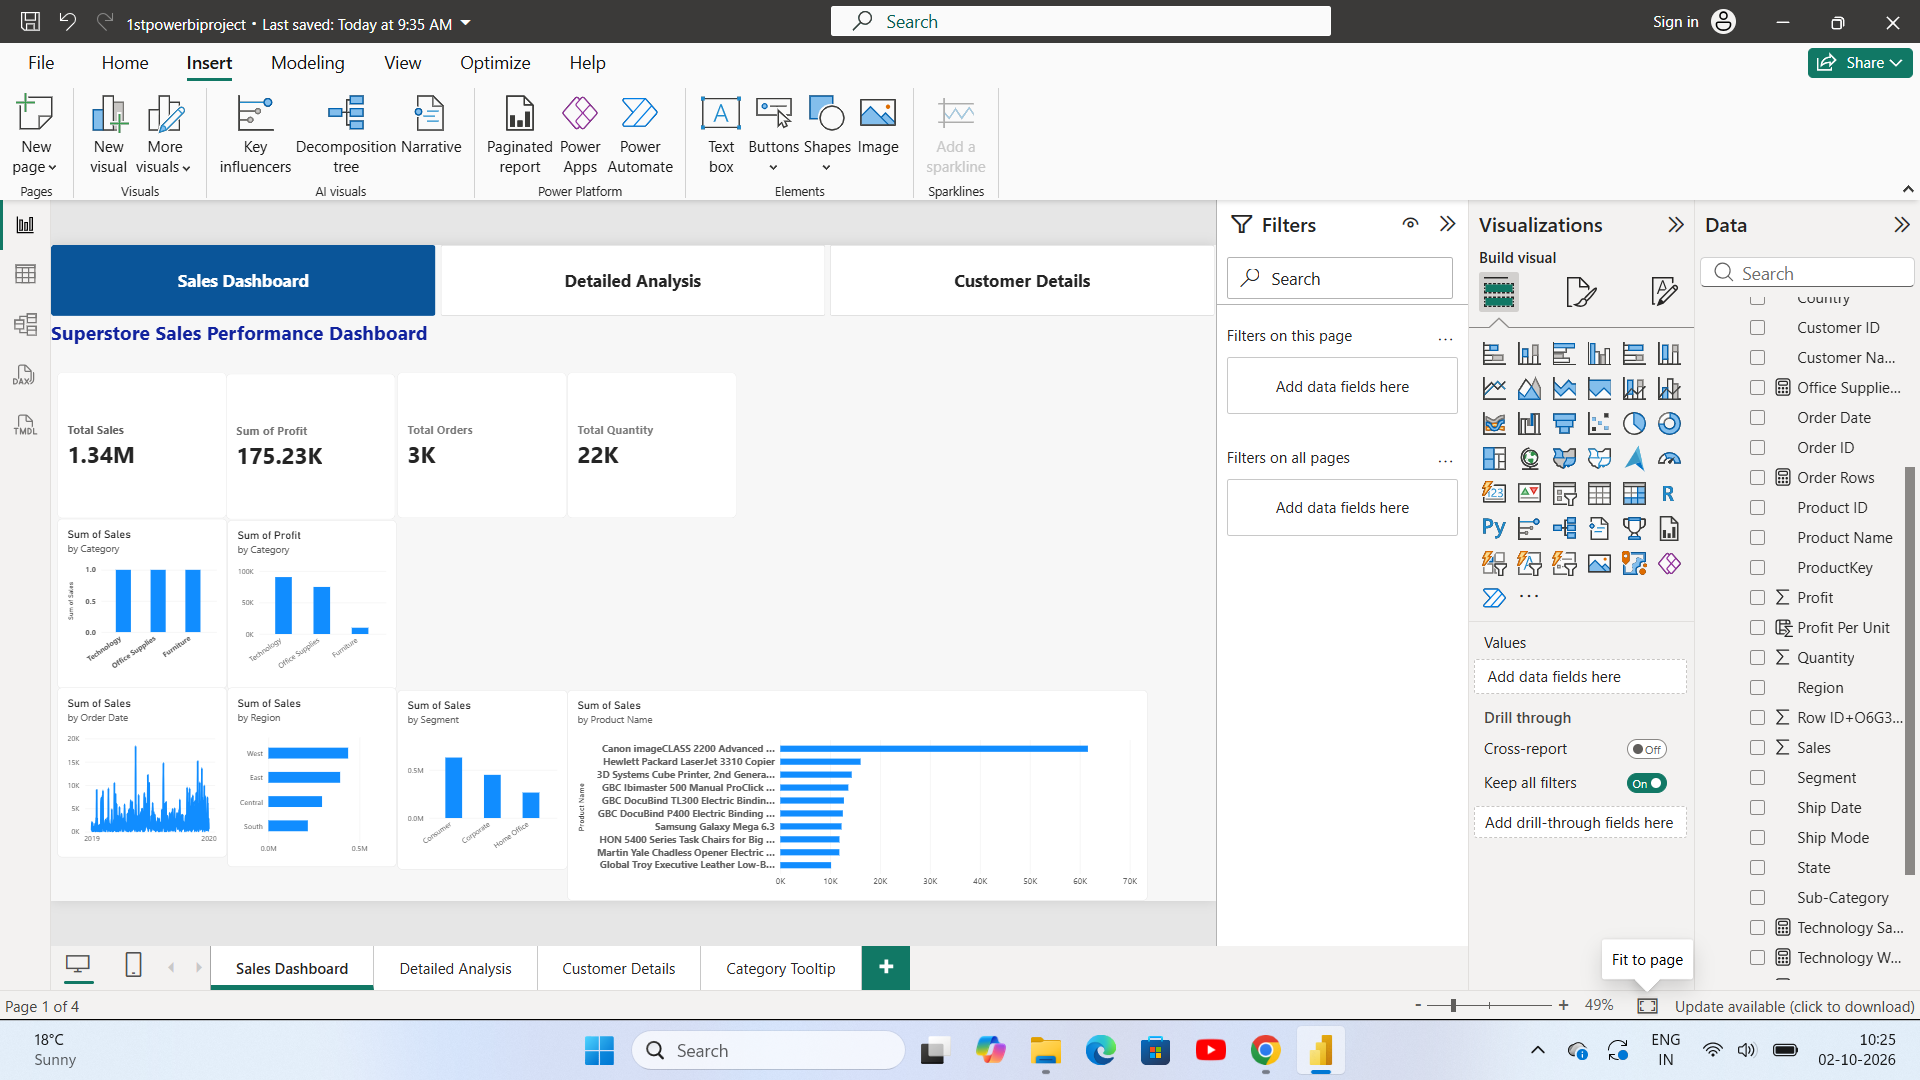

The dashboard page shown, as its layout file describes it:
{"tool":"powerbi","page":{"name":"Sales Dashboard","canvas":[1920,1080],"ordinal":0},"visuals":[{"type":"cardVisual","fields":{"Data":["Orders.Total Sales"]},"box":[9.4,209.4,279.9,240.8],"z":0},{"type":"cardVisual","fields":{"Data":["Sum(Orders.Profit)"]},"box":[288.7,211.3,279.9,240.8],"z":1},{"type":"cardVisual","fields":{"Data":["Orders.Total Orders"]},"box":[569.8,209.4,279.9,240.8],"z":2},{"type":"cardVisual","fields":{"Data":["Orders.Total Quantity"]},"box":[850.9,209.4,279.9,240.8],"z":3},{"type":"clusteredColumnChart","fields":{"Category":["Orders.Category"],"Y":["Sum(Orders.Sales)"]},"box":[9.4,450.9,280,280],"z":4},{"type":"clusteredColumnChart","fields":{"Category":["Orders.Category"],"Y":["Sum(Orders.Profit)"]},"box":[290.6,452.8,279.2,281.1],"z":5},{"type":"lineChart","fields":{"Category":["Orders.Order Date"],"Y":["Sum(Orders.Sales)"]},"box":[9.4,730.2,280,280],"z":6},{"type":"clusteredBarChart","fields":{"Category":["Orders.Region"],"Y":["Sum(Orders.Sales)"]},"box":[290.6,730.2,279.2,296.2],"z":7},{"type":"clusteredColumnChart","fields":{"Category":["Orders.Segment"],"Y":["Sum(Orders.Sales)"]},"box":[569.8,734,281.1,296.2],"z":8},{"type":"clusteredBarChart","fields":{"Category":["Orders.Product Name"],"Y":["Sum(Orders.Sales)"]},"box":[850.9,734,956.6,347.2],"z":9},{"type":"pageNavigator","box":[0,0,1920.4,117.3],"z":10},{"type":"textbox","box":[0,120.8,645.3,88.7],"z":11}]}

Visuals, with their boxes on the page's 1920x1080 design canvas (x1, y1, x2, y2). These are canvas units, not pixel positions in the 1920x1080 screenshot, which may show the page scaled, cropped or inside an application window:
cardVisual - Orders.Total Sales: [9, 209, 289, 450]
cardVisual - Sum(Orders.Profit): [289, 211, 569, 452]
cardVisual - Orders.Total Orders: [570, 209, 850, 450]
cardVisual - Orders.Total Quantity: [851, 209, 1131, 450]
clusteredColumnChart - Orders.Category x Sum(Orders.Sales): [9, 451, 289, 731]
clusteredColumnChart - Orders.Category x Sum(Orders.Profit): [291, 453, 570, 734]
lineChart - Orders.Order Date x Sum(Orders.Sales): [9, 730, 289, 1010]
clusteredBarChart - Orders.Region x Sum(Orders.Sales): [291, 730, 570, 1026]
clusteredColumnChart - Orders.Segment x Sum(Orders.Sales): [570, 734, 851, 1030]
clusteredBarChart - Orders.Product Name x Sum(Orders.Sales): [851, 734, 1808, 1081]
pageNavigator: [0, 0, 1920, 117]
textbox: [0, 121, 645, 210]
